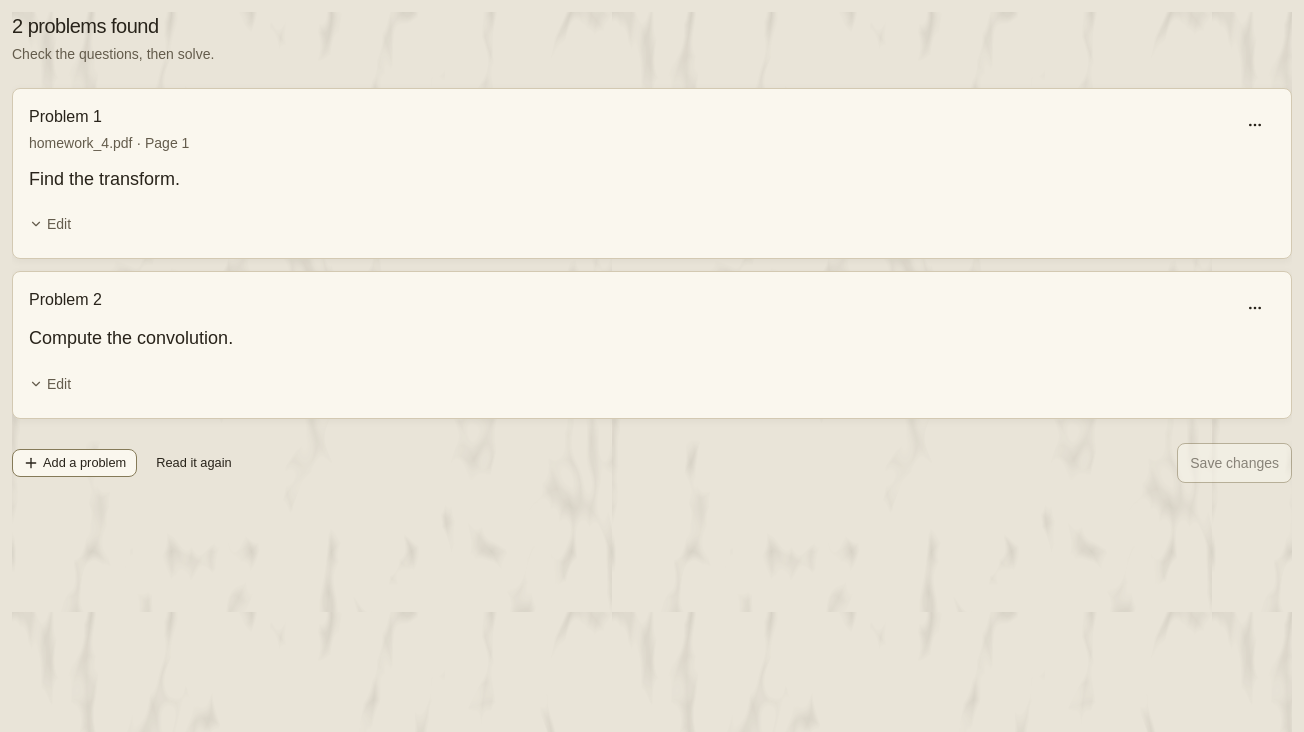
SegmentationReview › removes a problem the student says is not one
Click the button named "Actions for Problem 2" at (1255, 308), box [1235,288,1275,328]
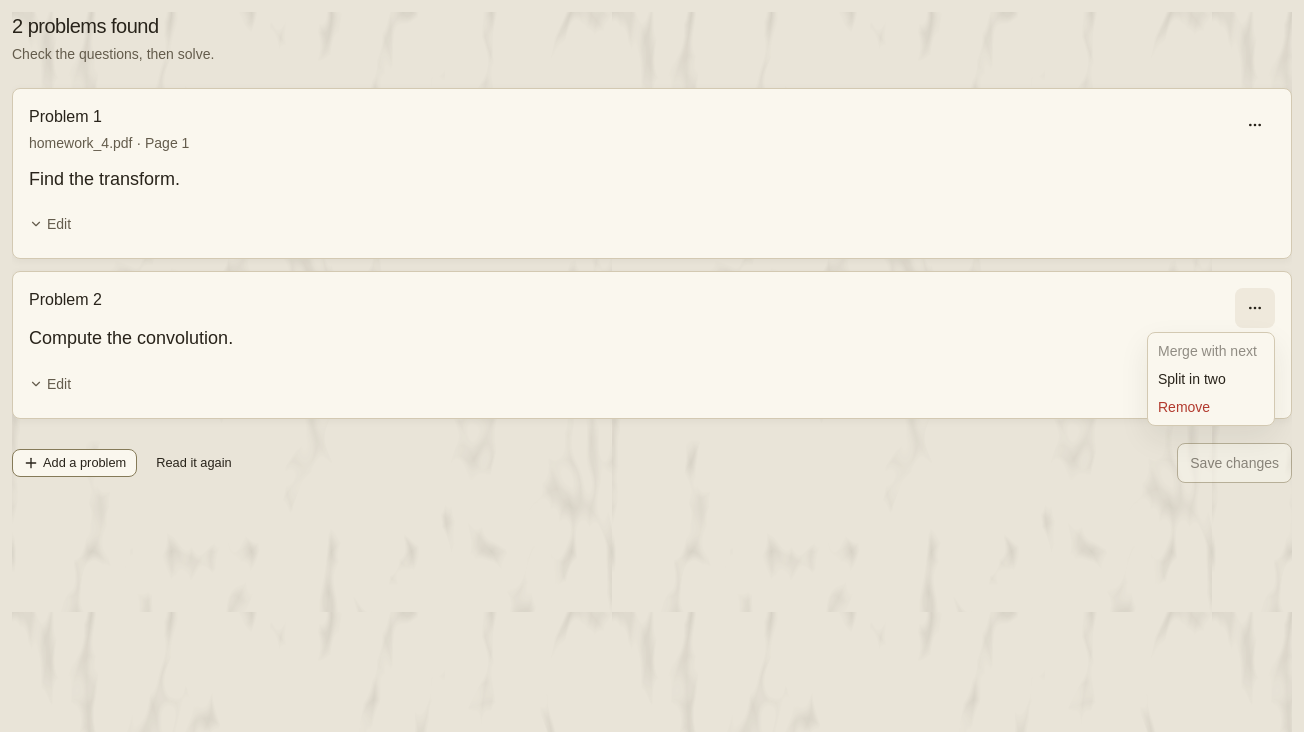
Click the menu item "Remove" at (1184, 407), box [1158,399,1210,415]
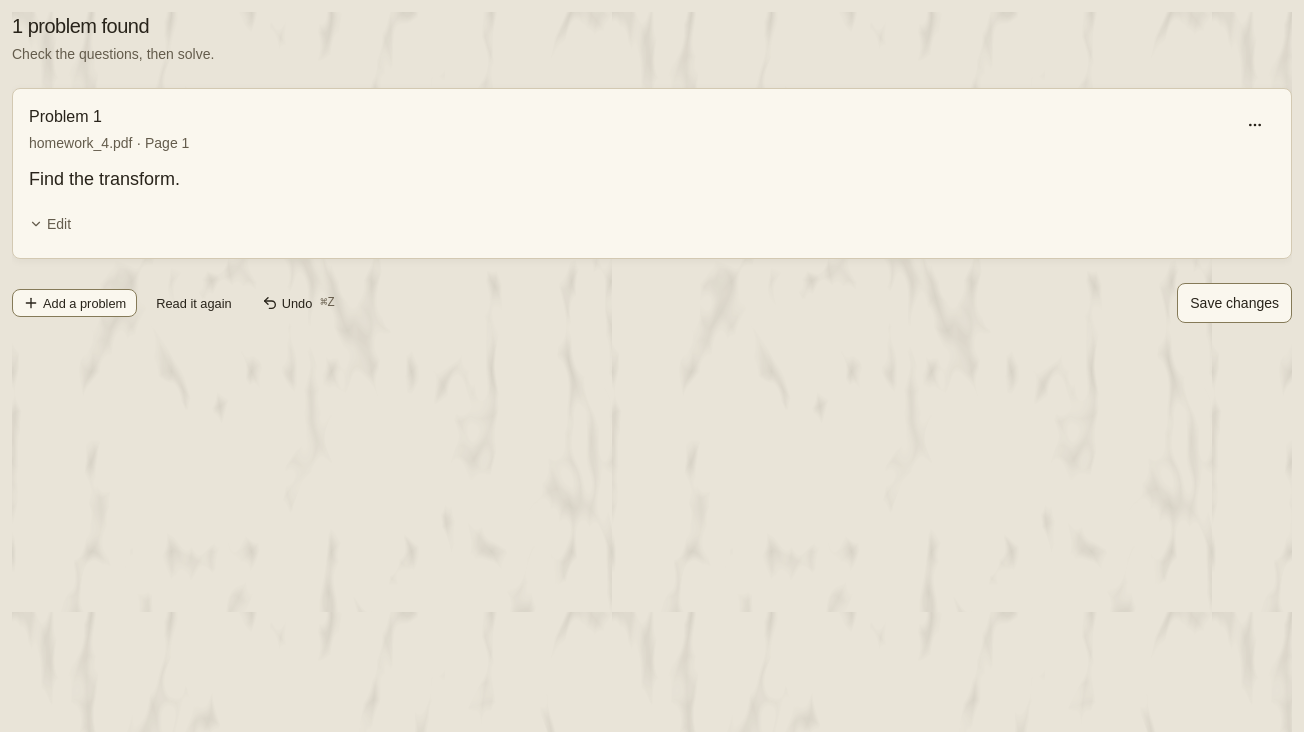
Check: the heading "1 problem found" is shown, box [12,15,149,37]
Check: the text "Compute the convolution." is gone
